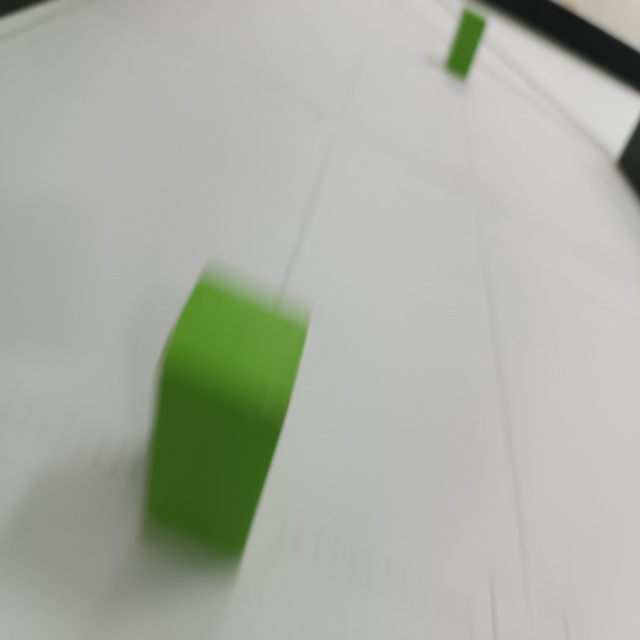green rectangular prism: (133, 275, 310, 568), (438, 3, 489, 86)
